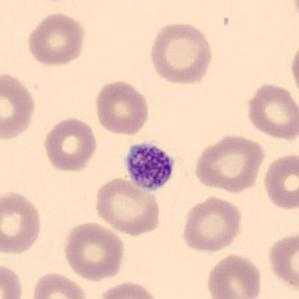Lymphocyte: (120, 138, 178, 194)
Platelets: (121, 138, 178, 194)
RBC: (147, 19, 215, 87), (192, 132, 266, 194), (92, 176, 164, 237), (61, 219, 127, 283), (180, 193, 244, 254), (24, 10, 88, 68), (41, 114, 99, 174), (92, 78, 151, 136), (243, 80, 298, 142), (0, 188, 44, 257), (204, 251, 264, 299), (0, 69, 38, 141), (261, 152, 298, 212), (265, 230, 299, 295), (30, 269, 90, 299), (97, 279, 162, 299), (0, 260, 25, 299), (288, 38, 299, 100), (287, 0, 299, 27)
